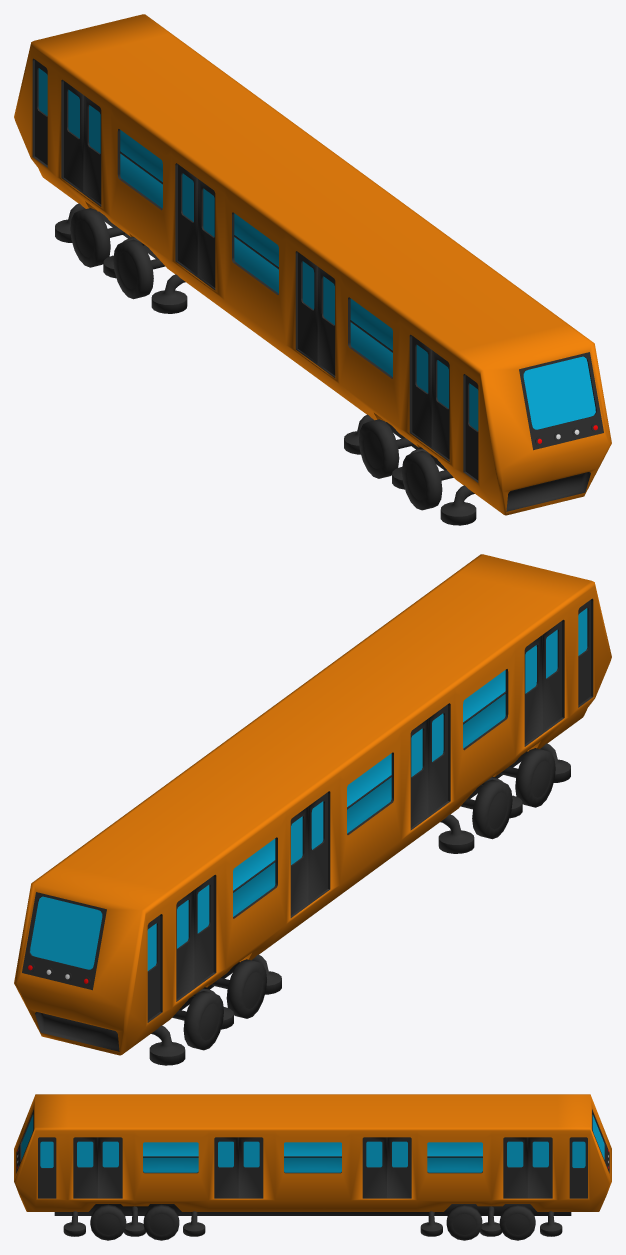
The model's file is metro.fbx.
The picture shows the model from 3 angles, top to bottom: view 1: azimuth 30°, elevation 25°; view 2: azimuth 150°, elevation 25°; view 3: azimuth 270°, elevation 25°; orthographic projection. The views are drawn at different scales.
Visible parts, largest first — view 1: Metro; view 2: Metro; view 3: Metro.
Part boxes in pixels (x1=…): Metro: x1=14, y1=14, x2=611, y2=525; Metro: x1=14, y1=554, x2=611, y2=1065; Metro: x1=14, y1=1094, x2=611, y2=1240.
Size of the model in its own units: 1.52 by 2.01 by 9.81.
